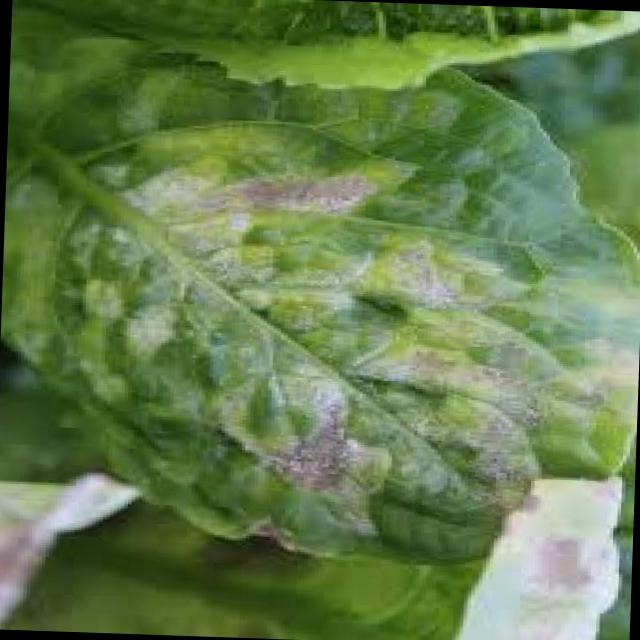Powdery_Mildew: (92, 165, 524, 487)
